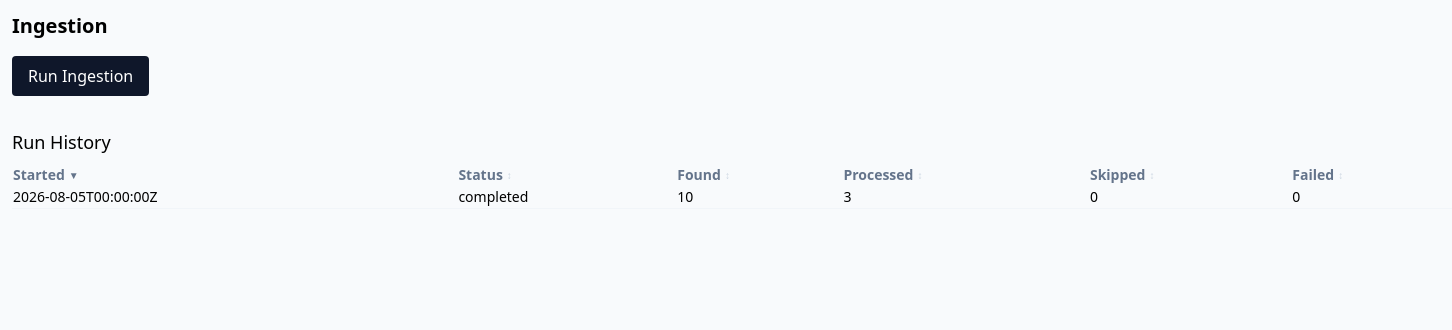
Test case: IngestionPage probable-duplicate files (Epic 14) › leaves every other outcome as it was, with no link
The width and height of the screenshot is (1452, 330).
Click the row with test id "run-history-row-run-1": click(732, 197) [12, 186, 1451, 208]
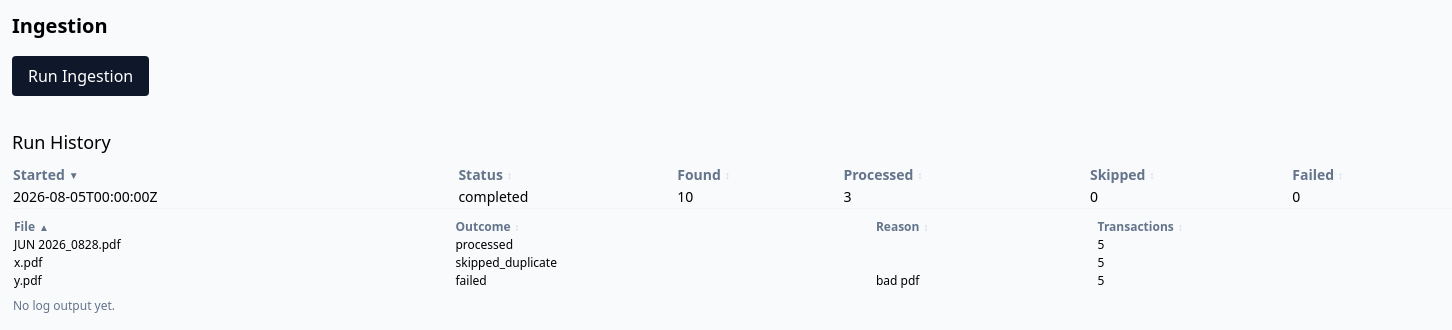
Expected: the text "skipped_duplicate" is shown, [454, 254, 875, 272]
Expected: the text "processed" is shown, [454, 236, 875, 254]
Expected: the text "failed" is shown, [454, 272, 875, 290]
